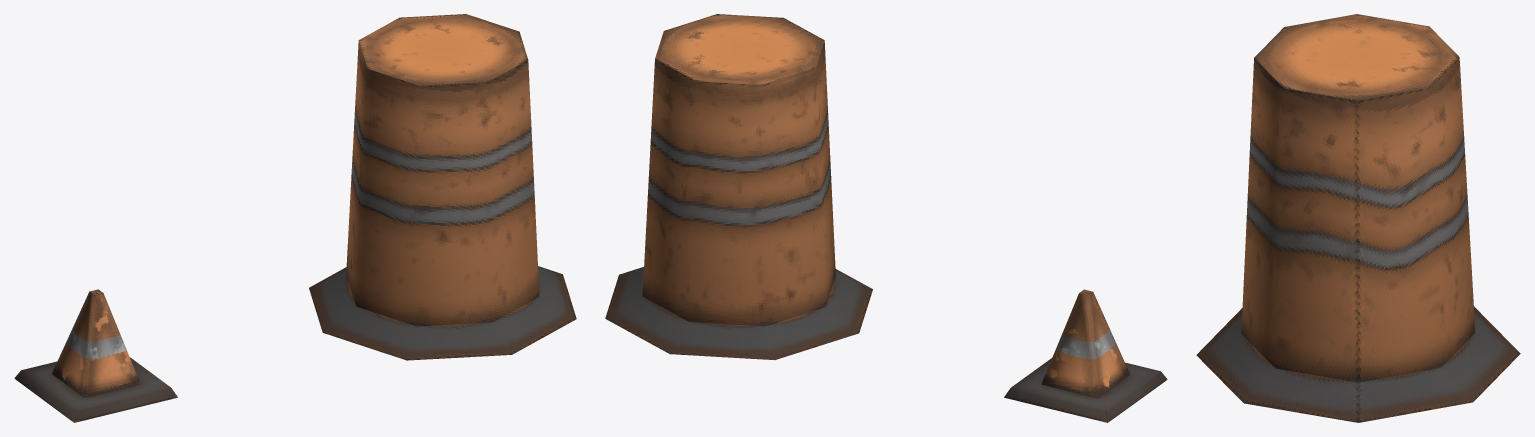
Rendered from Traffic Cone.glb.
The picture shows the model from 3 angles, left to right: view 1: azimuth 30°, elevation 25°; view 2: azimuth 150°, elevation 25°; view 3: azimuth 270°, elevation 25°; orthographic projection. The views are drawn at different scales.
Parts seen in each view (by area): view 1: TrafficConeBarrel, TrafficConeSmall; view 2: TrafficConeBarrel, TrafficConeSmall; view 3: TrafficConeBarrel.
Boxes of the visible parts, left/top/right/bottom form: TrafficConeBarrel: left=309, top=14, right=576, bottom=360; TrafficConeSmall: left=14, top=289, right=177, bottom=422; TrafficConeBarrel: left=605, top=14, right=872, bottom=360; TrafficConeSmall: left=1004, top=289, right=1167, bottom=422; TrafficConeBarrel: left=1196, top=14, right=1520, bottom=422.
Size of the model in its own units: 2.99 by 1.41 by 1.39.
Materials: 2 (2 with a texture image).
